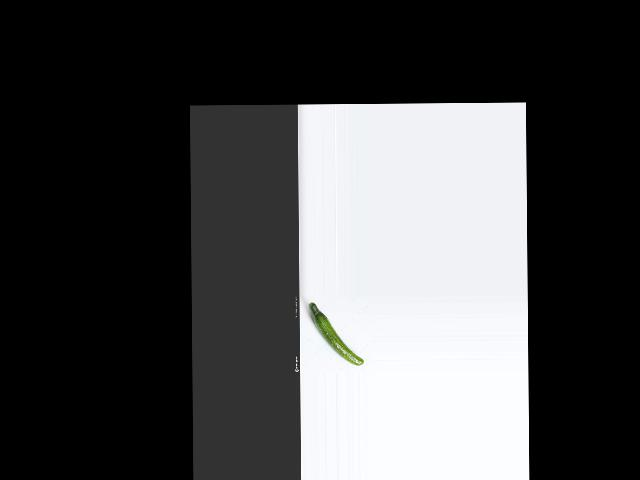cucumber: (308, 300, 363, 365)
